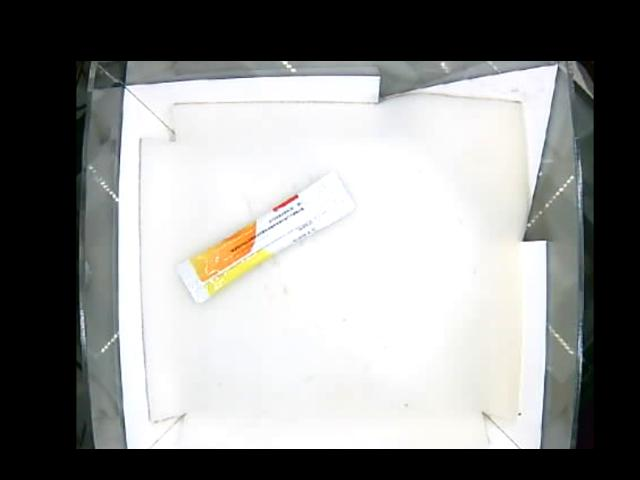Medicine: (175, 169, 354, 301)
